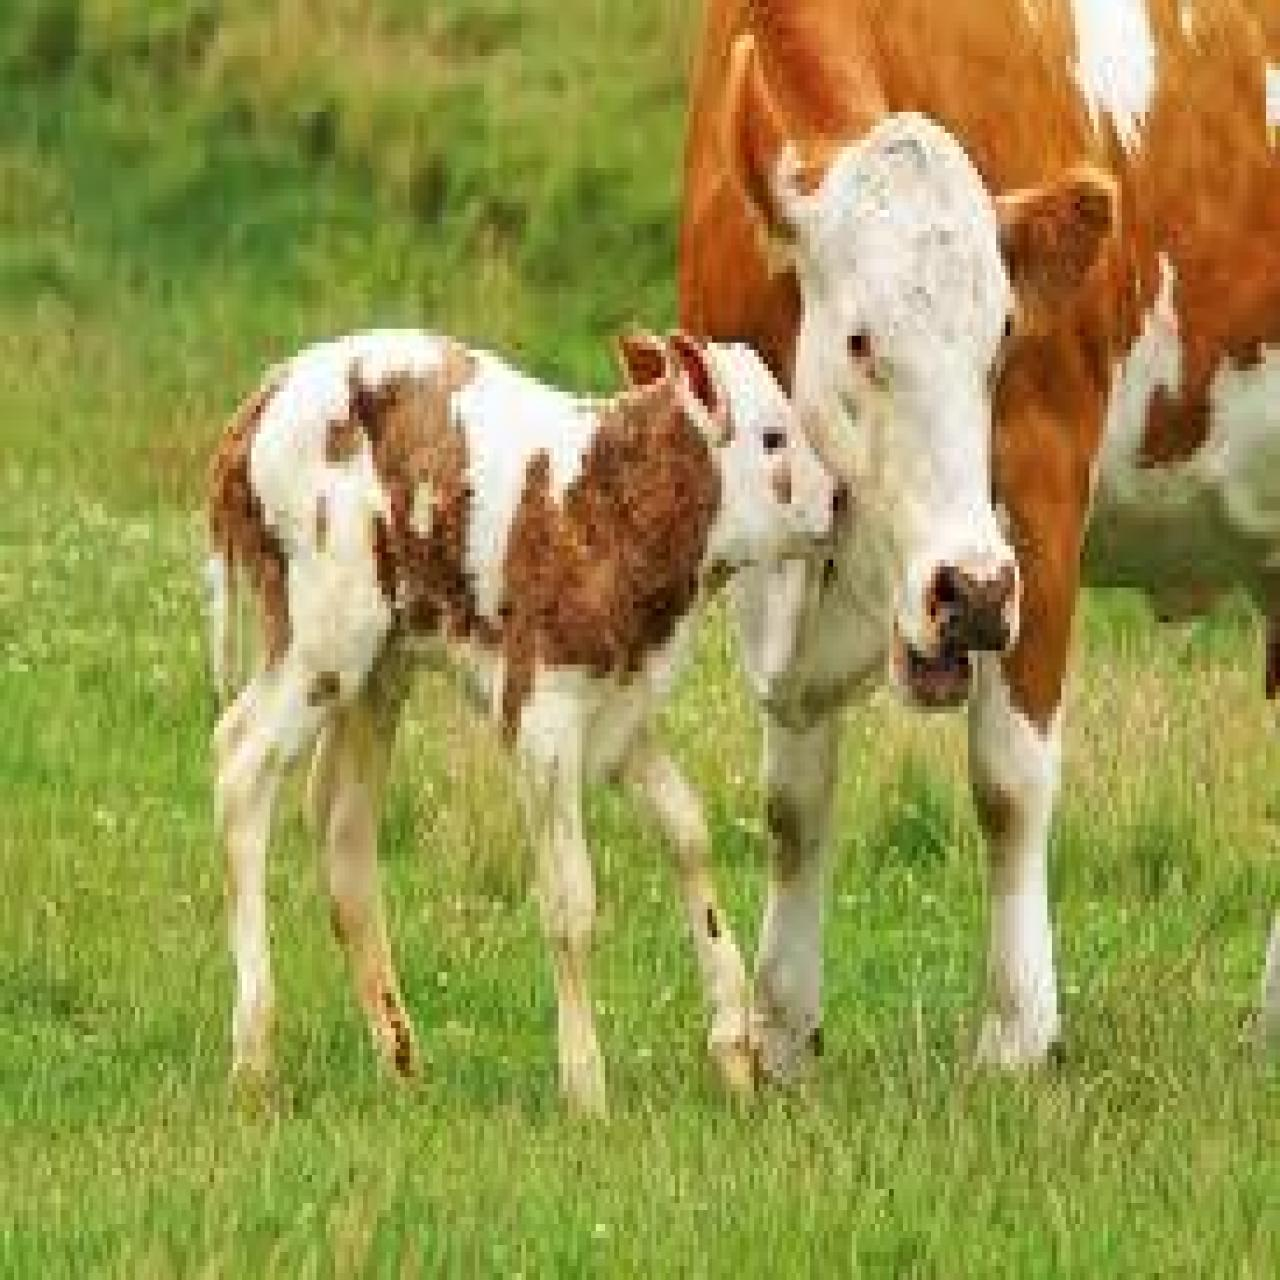cow: (675, 0, 1280, 1091), (205, 319, 847, 1123)
